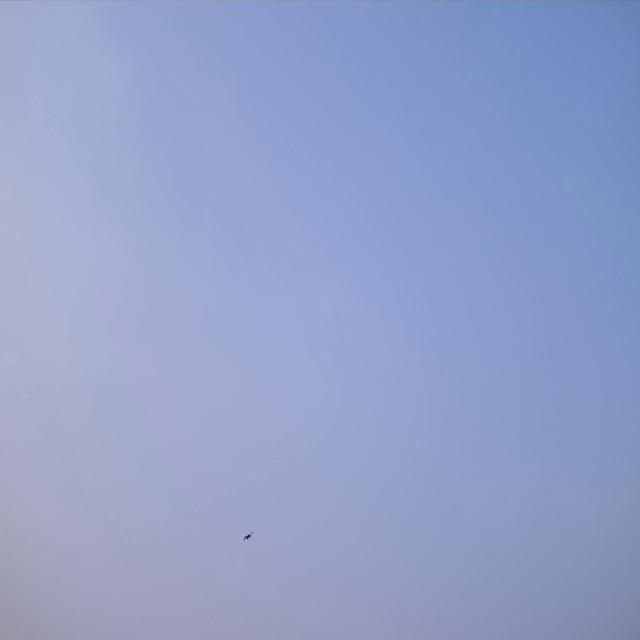UAV: (242, 530, 254, 542)
